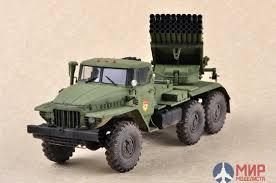MIL_SAM_TEL: (31, 11, 225, 173)
